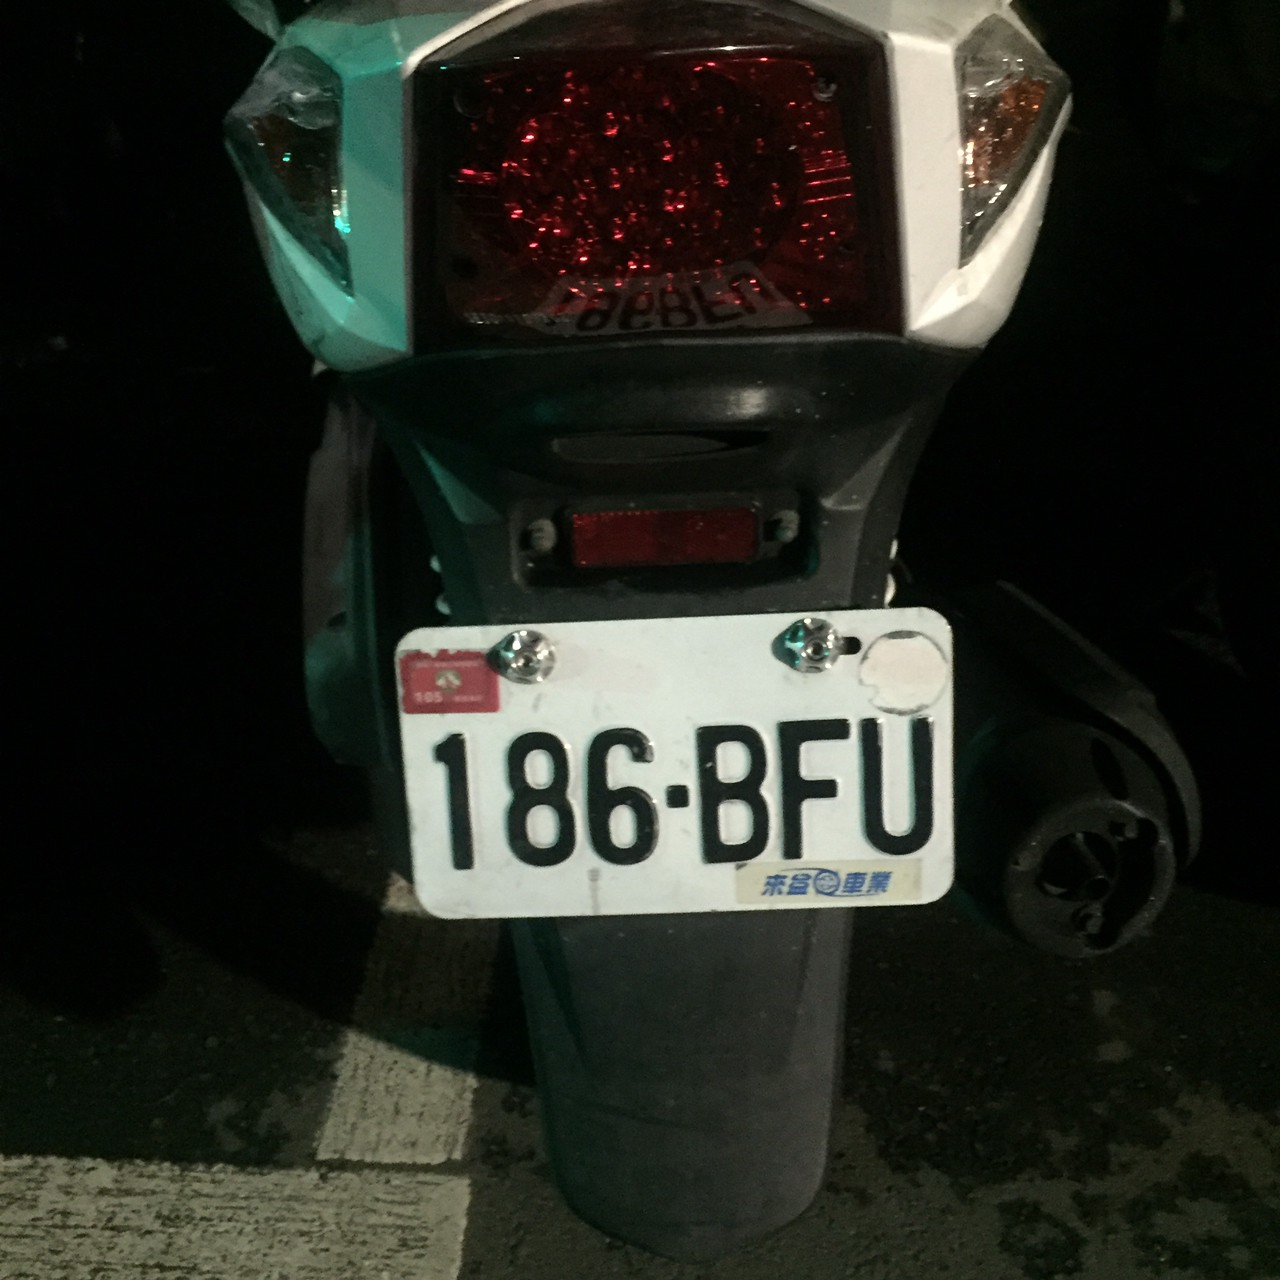LP: (393, 609, 960, 923)
